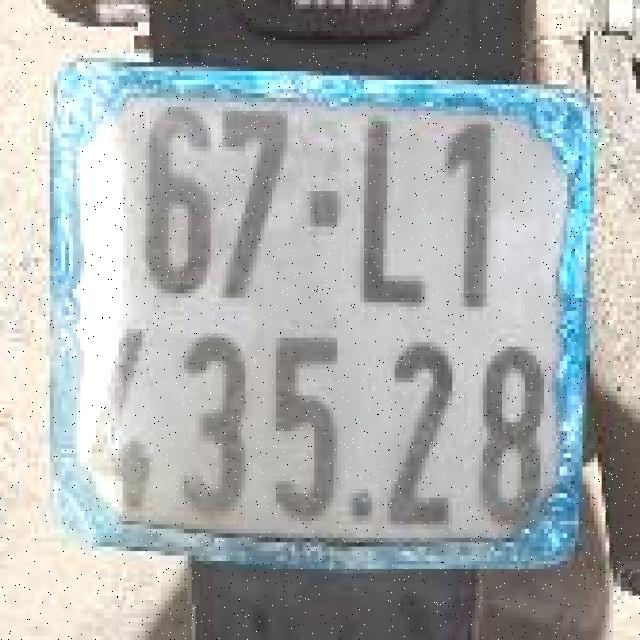1: (437, 111, 498, 316)
2: (375, 333, 460, 538)
3: (166, 322, 258, 527)
4: (71, 311, 159, 533)
5: (266, 327, 343, 540)
6: (132, 91, 220, 300)
7: (213, 89, 293, 307)
8: (470, 336, 542, 522)
L: (339, 91, 435, 309)
